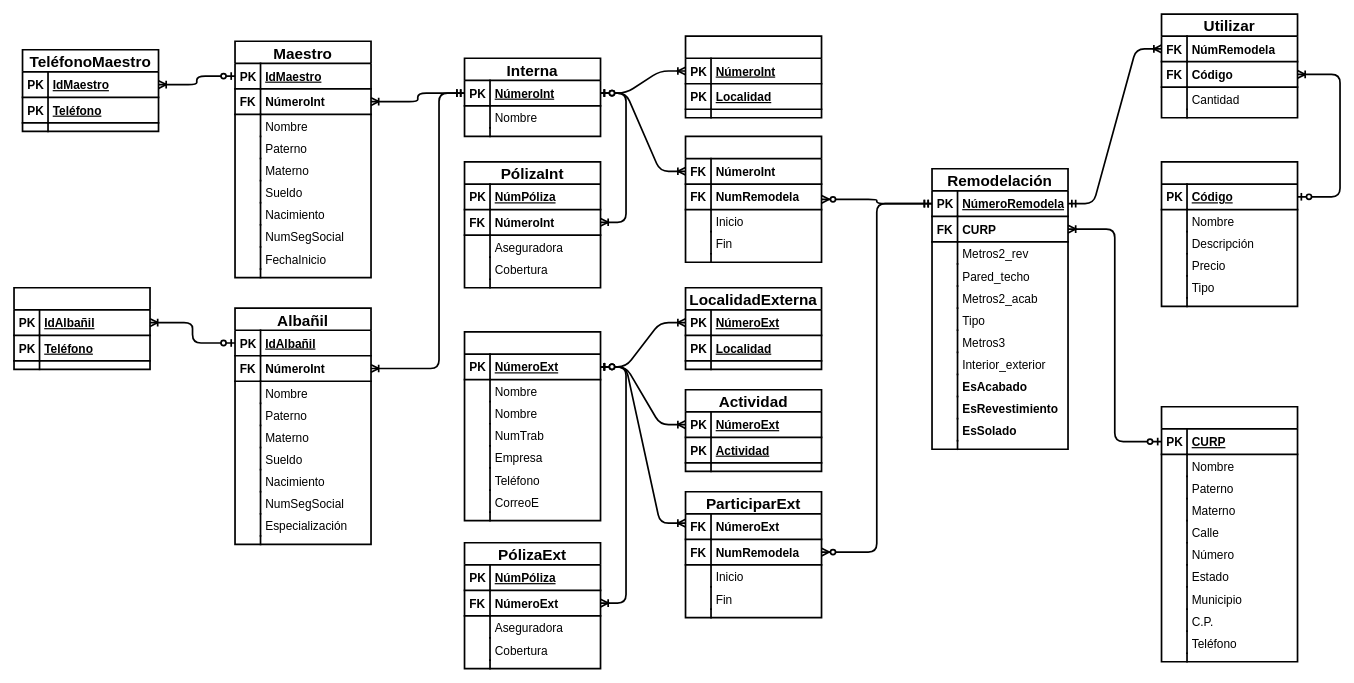
The diagram is 1354 pixels wide and 683 high, and some of its shapes have lost their labels. Each missing label, with the box of its shape:
Cliente: (1160, 405, 1298, 662)
Externa: (463, 331, 601, 521)
LocalidadInterna: (684, 35, 822, 118)
Material: (1160, 161, 1298, 307)
ParticiparInt: (684, 135, 822, 263)
TeléfonoAlbañil: (13, 286, 150, 370)
